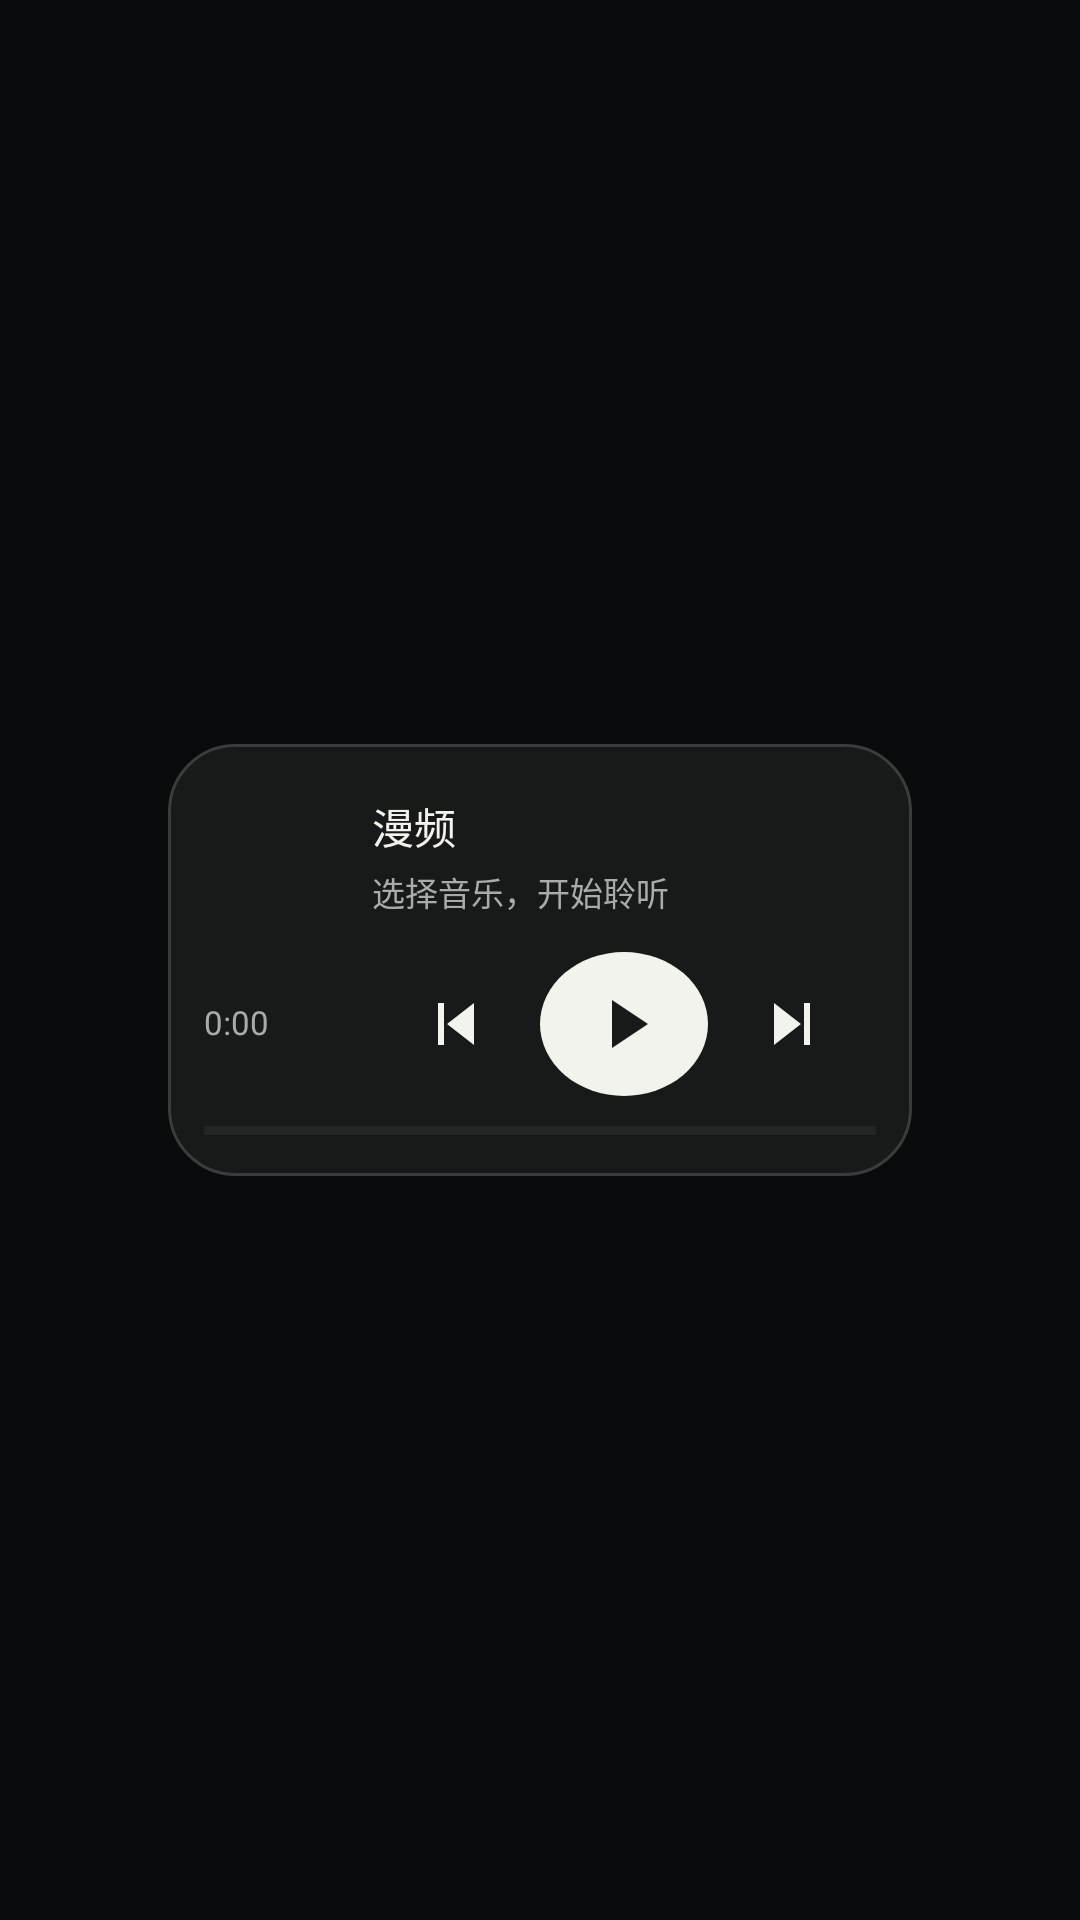

Icon click points for this 1080w x 1920h phone screenshot, format [x,y]:
上一首: [456,1024]
下一首: [792,1024]
播放或暂停: [624,1024]
